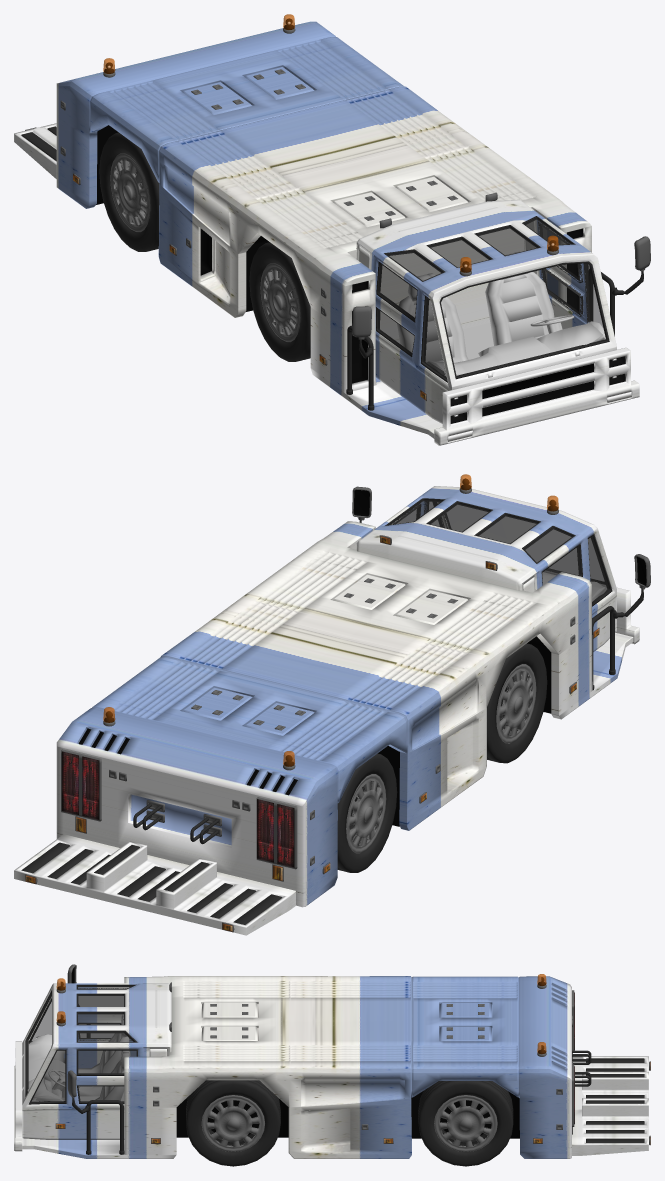
File: Car3.FBX
3 views of the same model, one above another, from view 1: azimuth 30°, elevation 25°; view 2: azimuth 150°, elevation 25°; view 3: azimuth 270°, elevation 25° (orthographic). The views are drawn at different scales.
Visible parts, largest first — view 1: subD, subD_2, subD_RAD_VR, subD_RAD_H, Non_subD; view 2: subD, subD_2, subD_RAD_H, subD_RAD_VR, Non_subD; view 3: subD, subD_2, subD_RAD_H, subD_RAD_VL, Non_subD.
Part boxes in pixels (x1,y1,x2,y2): subD: (14, 14, 639, 445); subD_2: (56, 50, 442, 438); subD_RAD_VR: (249, 242, 310, 361); subD_RAD_H: (99, 132, 159, 251); Non_subD: (346, 236, 650, 410); subD: (14, 474, 639, 935); subD_2: (180, 571, 633, 907); subD_RAD_H: (337, 753, 397, 872); subD_RAD_VR: (487, 643, 547, 763); Non_subD: (133, 486, 650, 844); subD: (14, 974, 650, 1158); subD_2: (124, 976, 571, 1033); subD_RAD_H: (418, 1081, 513, 1166); subD_RAD_VL: (186, 1080, 280, 1166); Non_subD: (32, 964, 591, 1154).
Size of the model in its own units: 121 by 63.04 by 289.
